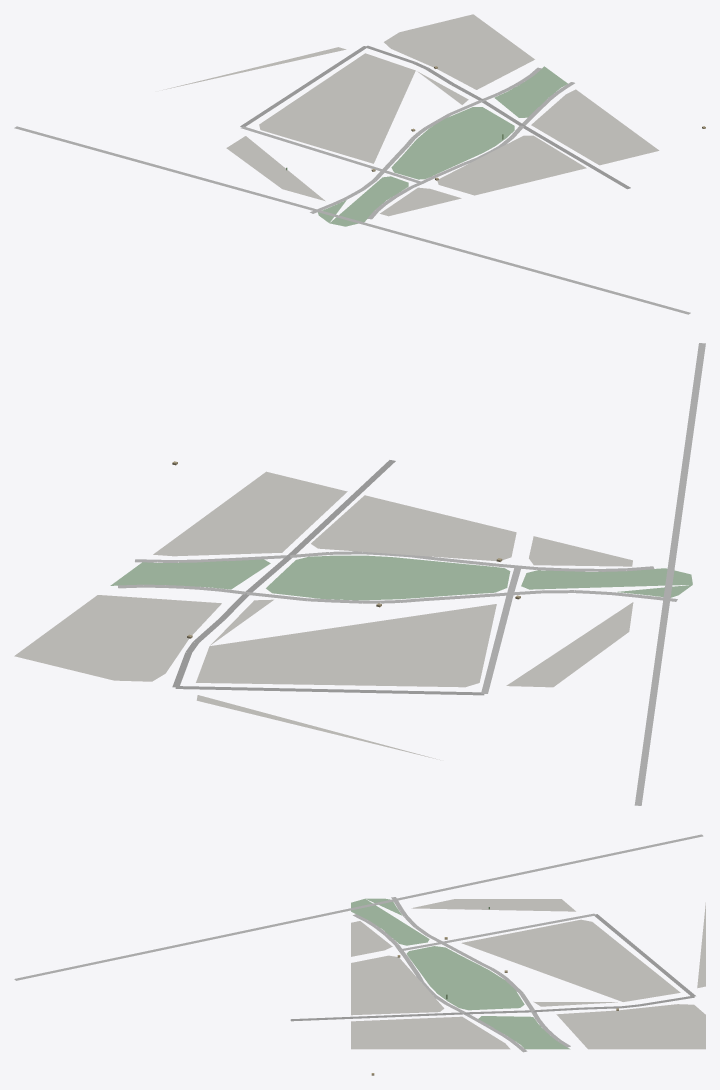
3 renders of one model, top to bottom at view 1: azimuth 30°, elevation 25°; view 2: azimuth 150°, elevation 25°; view 3: azimuth 270°, elevation 25°, orthographic. The views are drawn at different scales.
Bounding box in the file's own units: 803 × 8.32 × 974.
